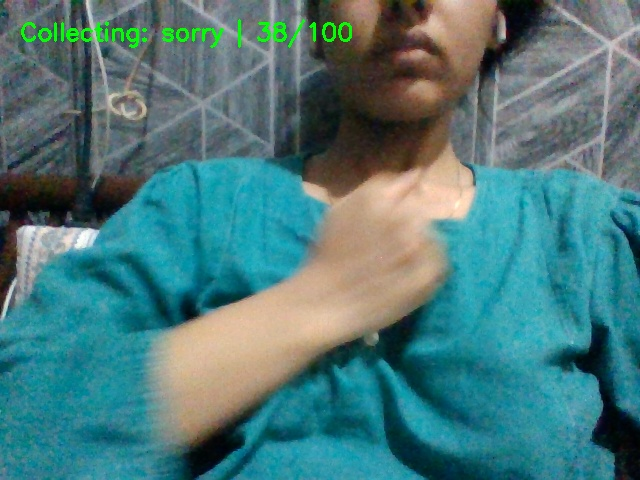sorry: (287, 157, 512, 399)
